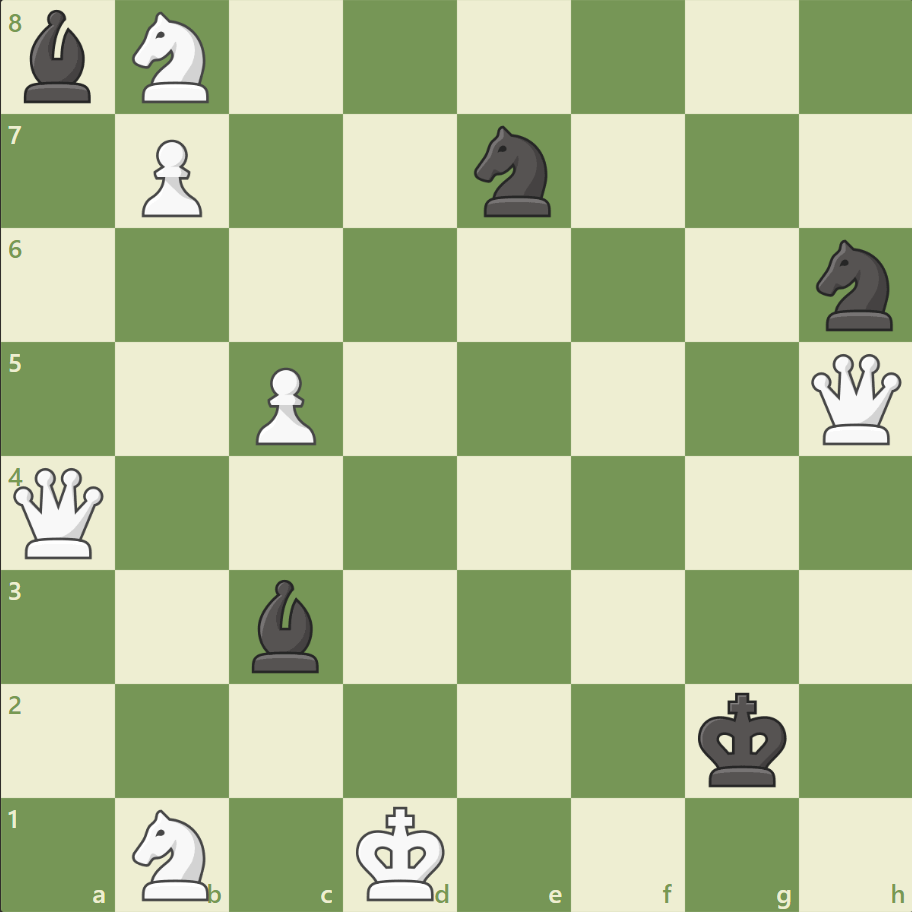K: (351, 798, 451, 906)
N: (124, 7, 222, 110), (124, 802, 222, 904)
P: (133, 132, 208, 223), (247, 359, 322, 450)
Q: (805, 349, 904, 449), (10, 463, 109, 562)
b: (17, 6, 101, 109), (244, 574, 328, 676)
k: (692, 685, 792, 793)
n: (806, 234, 903, 337), (465, 121, 562, 223)
